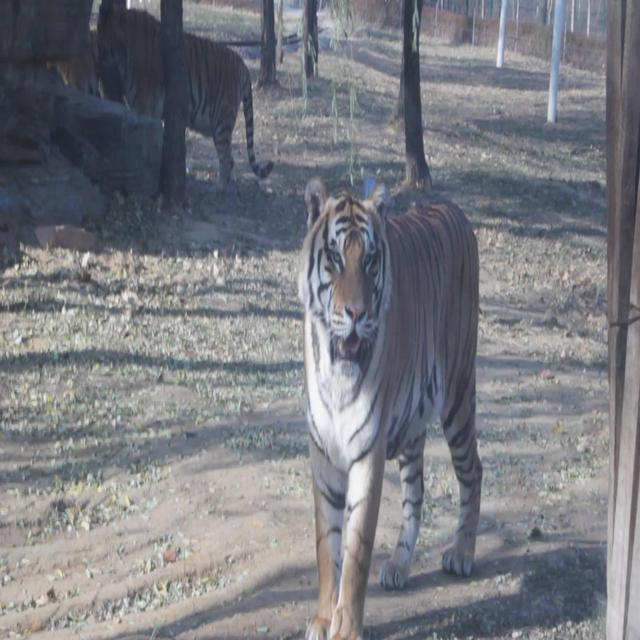tiger: (295, 175, 483, 639), (91, 0, 274, 194)
